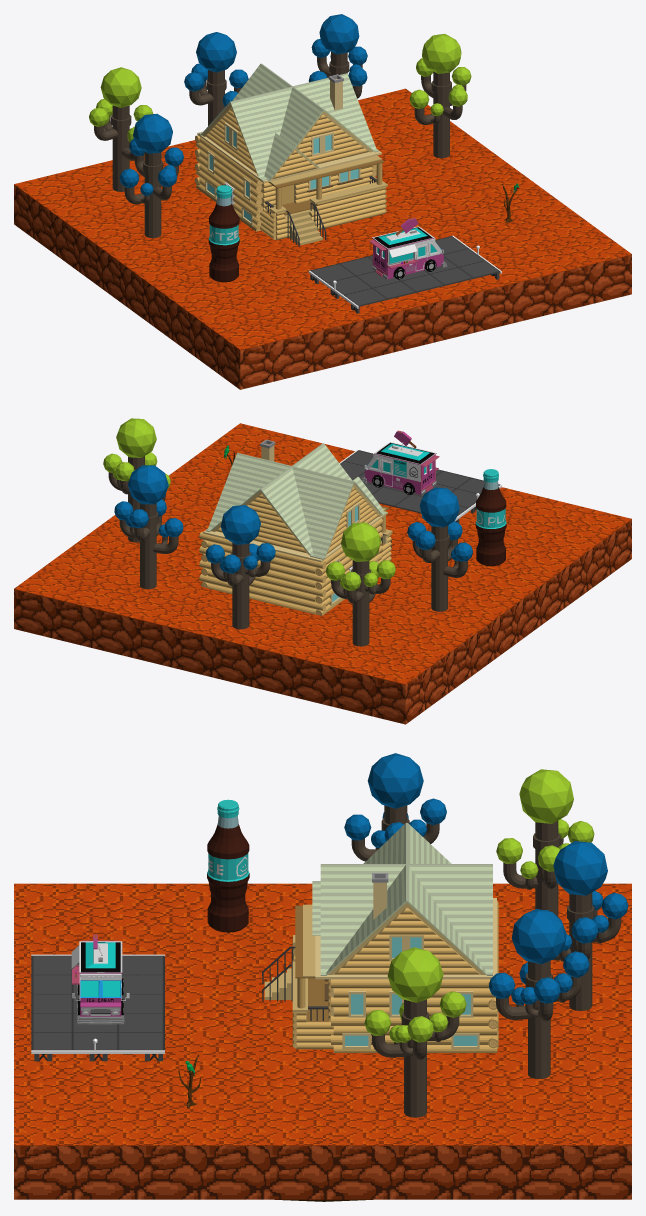
The picture shows the model from 3 angles, top to bottom: view 1: azimuth 30°, elevation 25°; view 2: azimuth 150°, elevation 25°; view 3: azimuth 270°, elevation 25°; orthographic projection. The views are drawn at different scales.
Visible parts, largest first — view 1: Cube.001, Cube.1516, VEHICLES_ICE_CREAM_TRUCK, OBJRANDOM_PLATZEECOLA; view 2: Cube.001, Cube.1516, VEHICLES_ICE_CREAM_TRUCK, OBJRANDOM_PLATZEECOLA; view 3: Cube.001, Cube.1516, OBJRANDOM_PLATZEECOLA, VEHICLES_ICE_CREAM_TRUCK.
Part boxes in pixels (x1,y1,x2,y2): Cube.001: (14,14,631,389); Cube.1516: (195,63,387,246); VEHICLES_ICE_CREAM_TRUCK: (369,218,447,279); OBJRANDOM_PLATZEECOLA: (208,185,239,282); Cube.001: (14,418,631,724); Cube.1516: (199,439,392,615); VEHICLES_ICE_CREAM_TRUCK: (361,430,439,494); OBJRANDOM_PLATZEECOLA: (475,469,506,566); Cube.001: (14,753,631,1199); Cube.1516: (262,823,498,1052); OBJRANDOM_PLATZEECOLA: (207,799,249,932); VEHICLES_ICE_CREAM_TRUCK: (71,934,129,1024).
Bounding box in the file's own units: 4000 × 1730 × 4000.
Materials: 49 (5 with a texture image).
